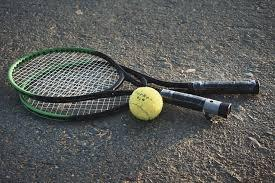tennis ball: (128, 86, 164, 121)
tennis racket: (7, 46, 232, 119), (18, 59, 259, 121)
